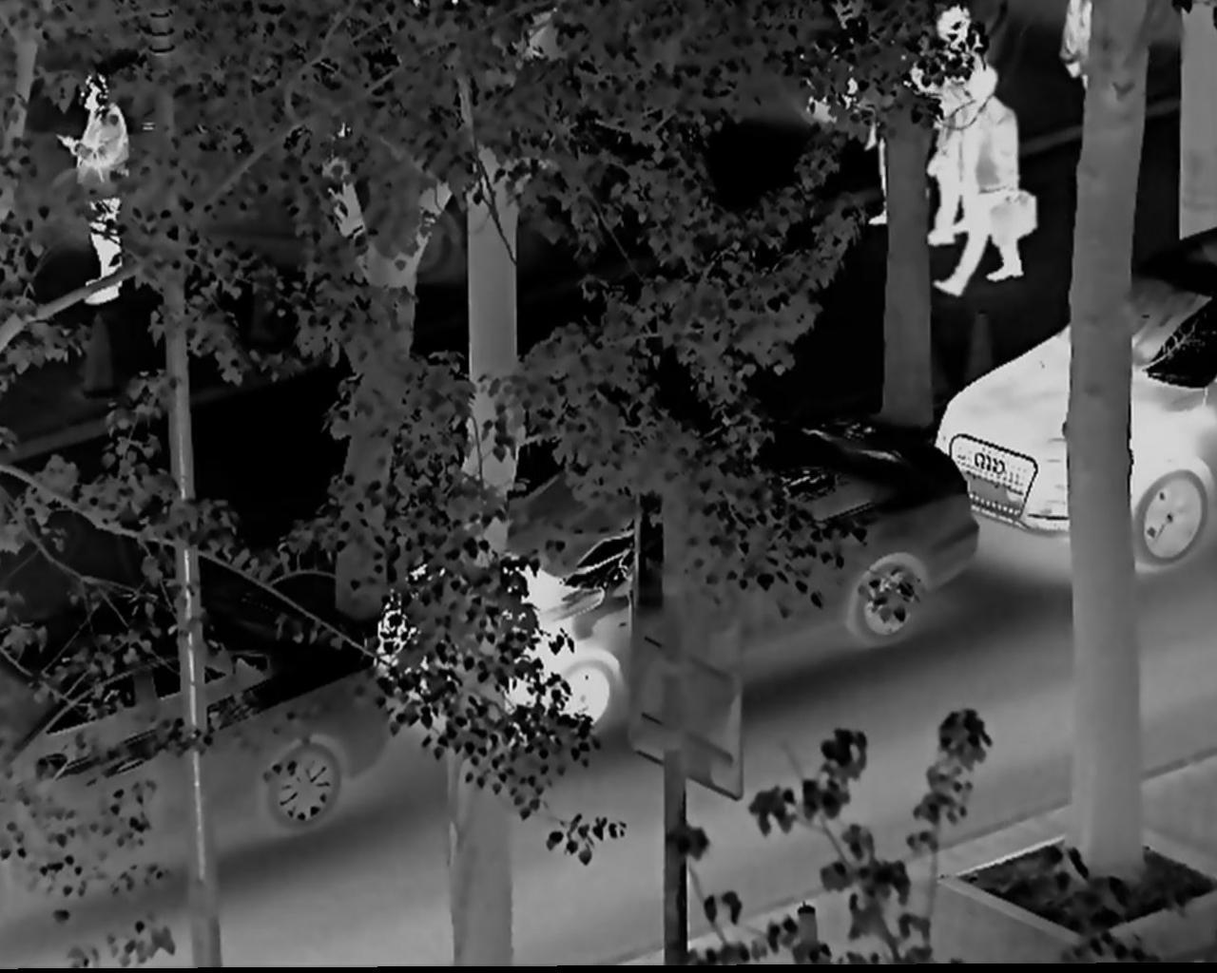person: (939, 64, 1046, 304), (51, 68, 145, 304)
